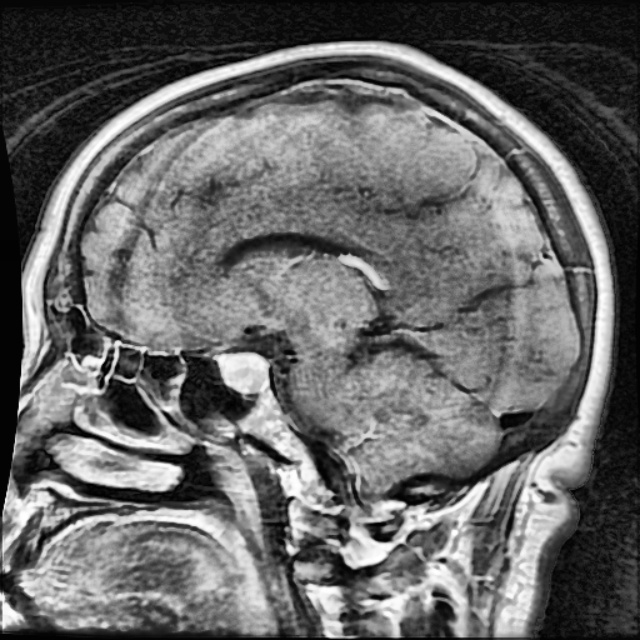Pituitary: (217, 353, 269, 393)
